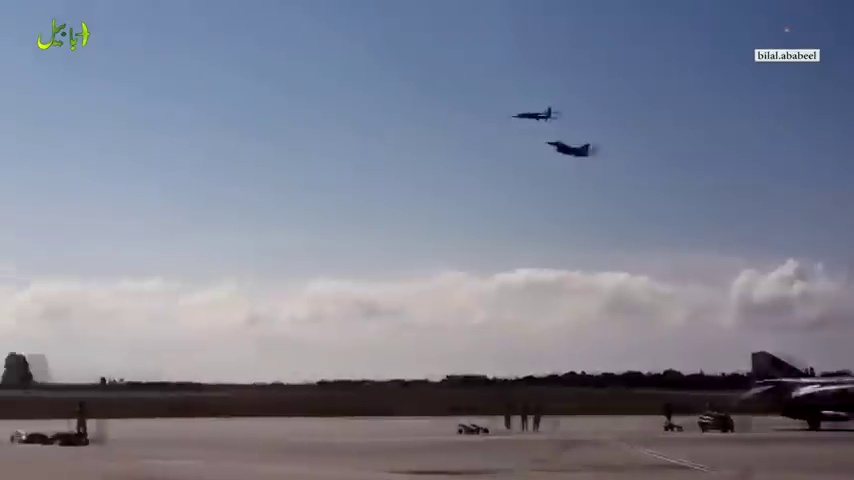military drone: (546, 139, 591, 157), (510, 106, 560, 122)
